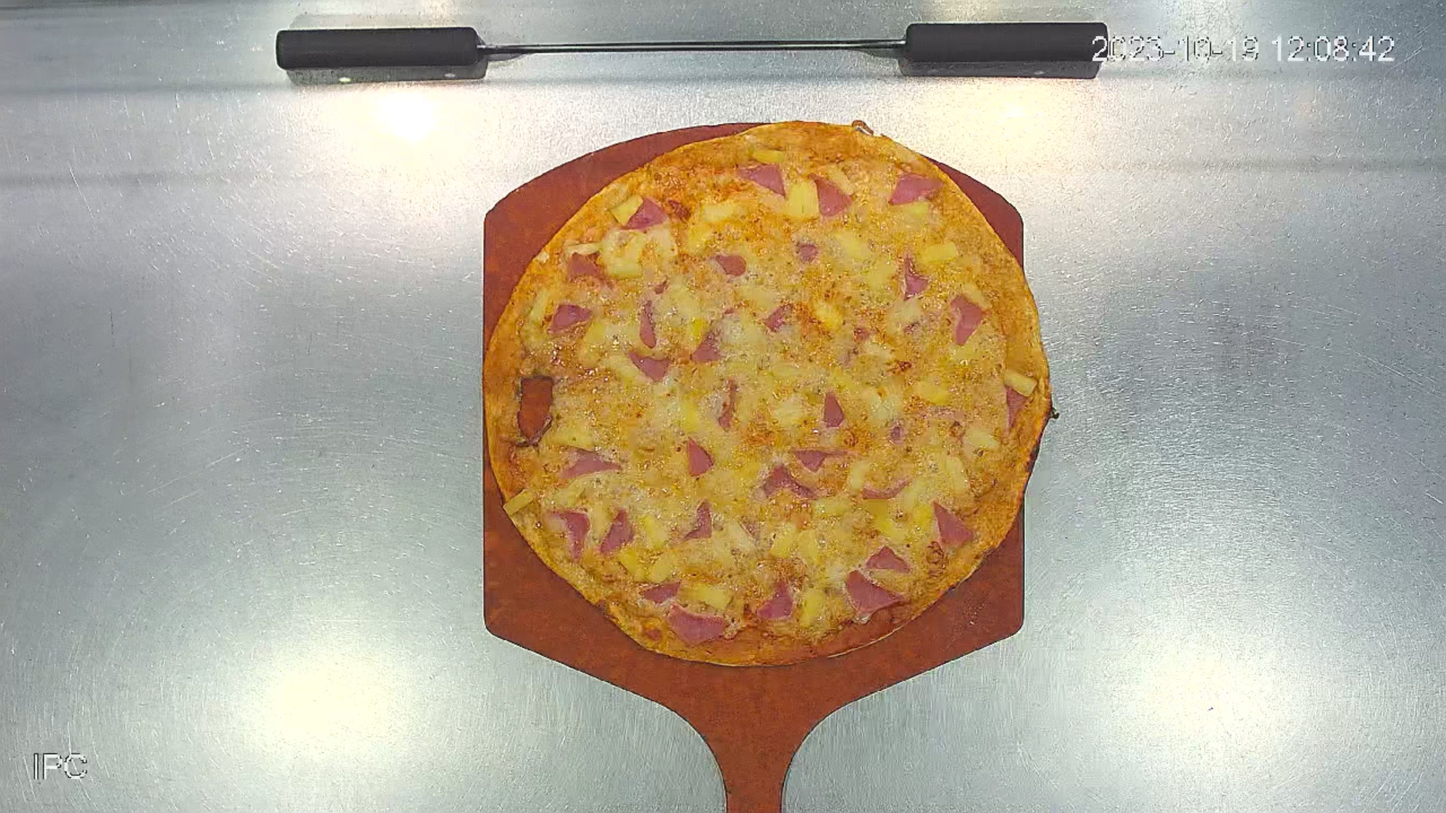hawaiian: (475, 114, 1064, 676)
